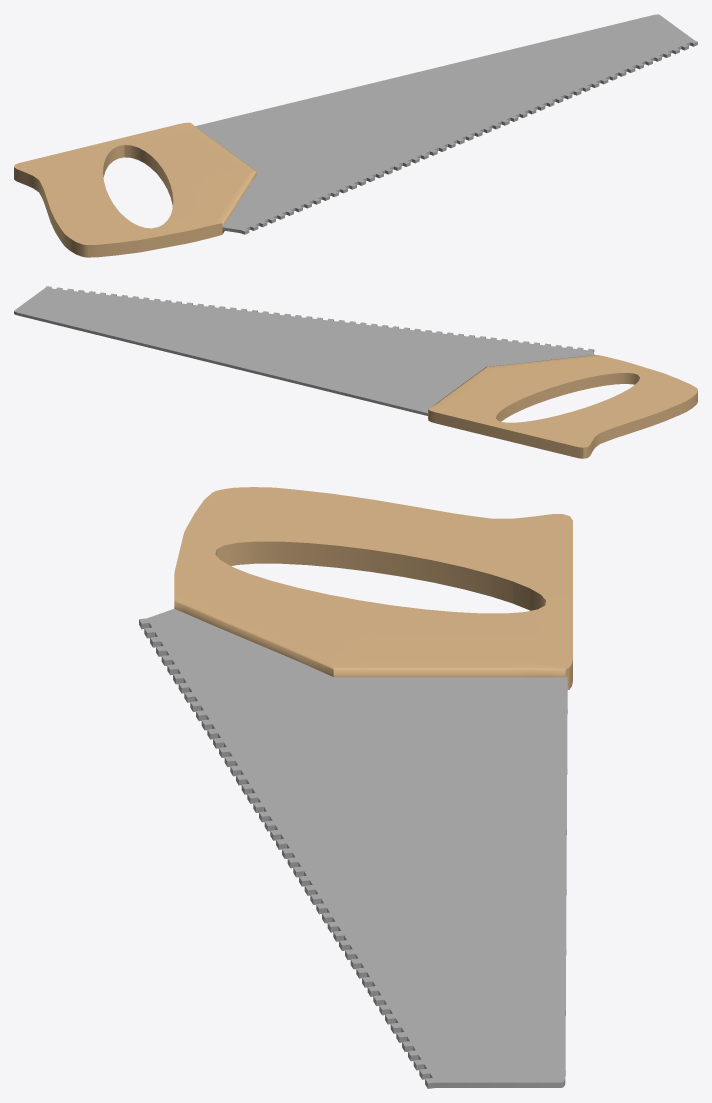
The model's file is saw.fbx.
3 renders of one model, top to bottom at view 1: azimuth 30°, elevation 25°; view 2: azimuth 150°, elevation 25°; view 3: azimuth 270°, elevation 25°, orthographic. The views are drawn at different scales.
Parts seen in each view (by area): view 1: saw; view 2: saw; view 3: saw.
Boxes of the visible parts, bbox=[...] form: saw: bbox=[14, 14, 697, 257]; saw: bbox=[14, 286, 697, 458]; saw: bbox=[139, 487, 572, 1088].
Bounding box in the file's own units: 51.25 × 0.9 × 15.98.
